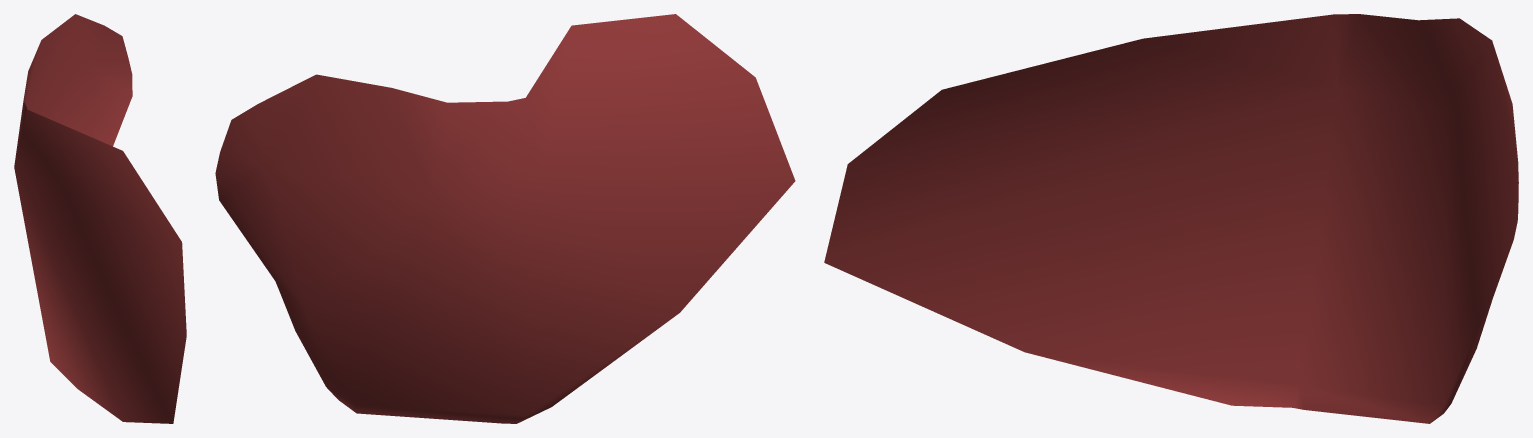
The model's file is longissimus-thoracis-muscle-e3r.glb.
3 views of the same model, side by side, from view 1: azimuth 30°, elevation 25°; view 2: azimuth 150°, elevation 25°; view 3: azimuth 270°, elevation 25° (orthographic). The views are drawn at different scales.
Parts seen in each view (by area): view 1: Longissimus thoracis muscle.e3r; view 2: Longissimus thoracis muscle.e3r; view 3: Longissimus thoracis muscle.e3r.
Part boxes in pixels (x1=…): Longissimus thoracis muscle.e3r: x1=14, y1=14, x2=186, y2=423; Longissimus thoracis muscle.e3r: x1=215, y1=14, x2=795, y2=423; Longissimus thoracis muscle.e3r: x1=824, y1=14, x2=1518, y2=423.
Size of the model in its own units: 0.00395 by 0.00563 by 0.0083.
